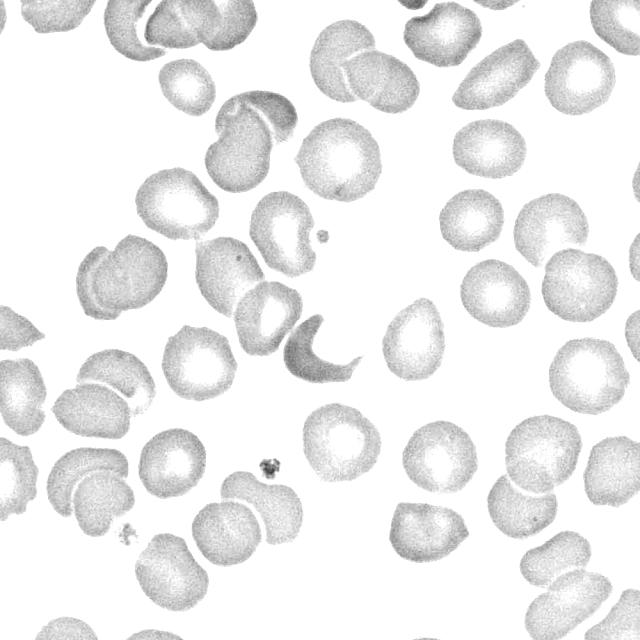sickle cell: (279, 302, 367, 396)
